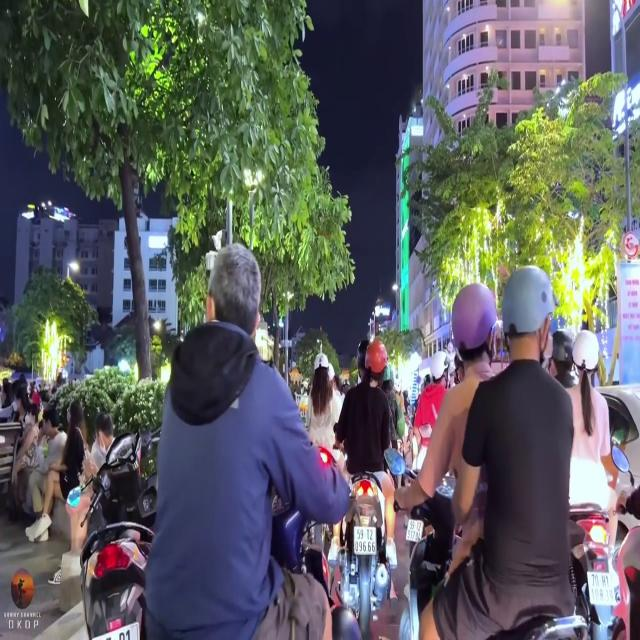bien_trang: (402, 513, 429, 546), (352, 525, 379, 557)
